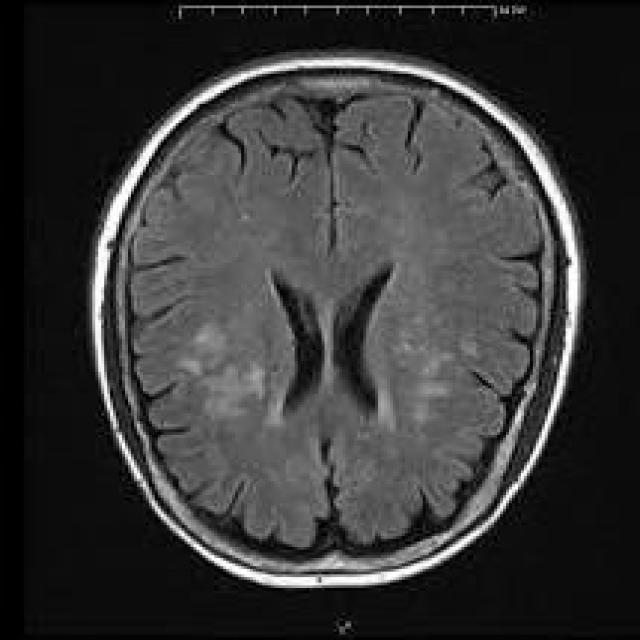notumor: (92, 52, 580, 585)
